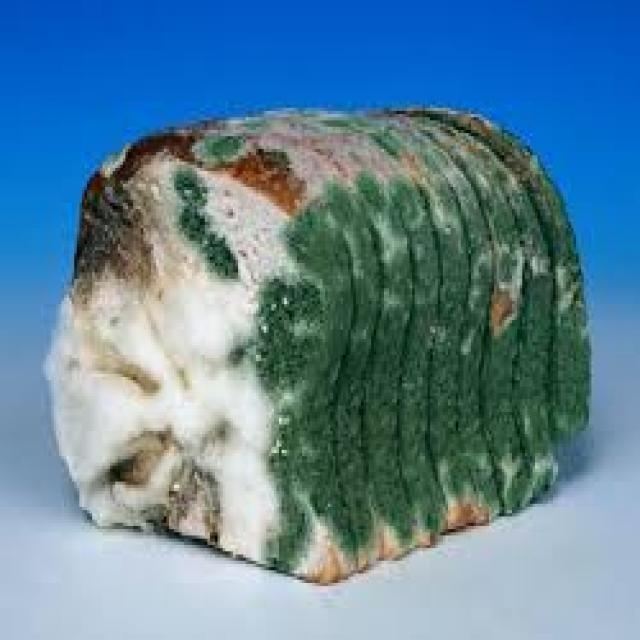organic waste: (41, 105, 591, 586), (43, 127, 356, 580)
